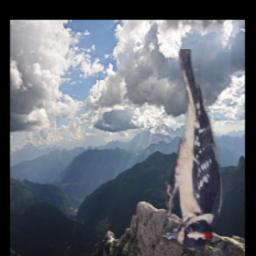Woodpecker: (160, 49, 224, 254)
